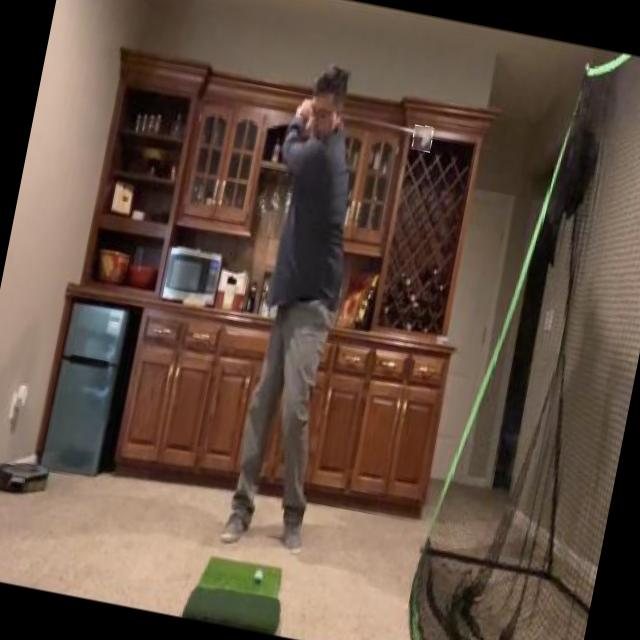club head: (410, 124, 434, 152)
